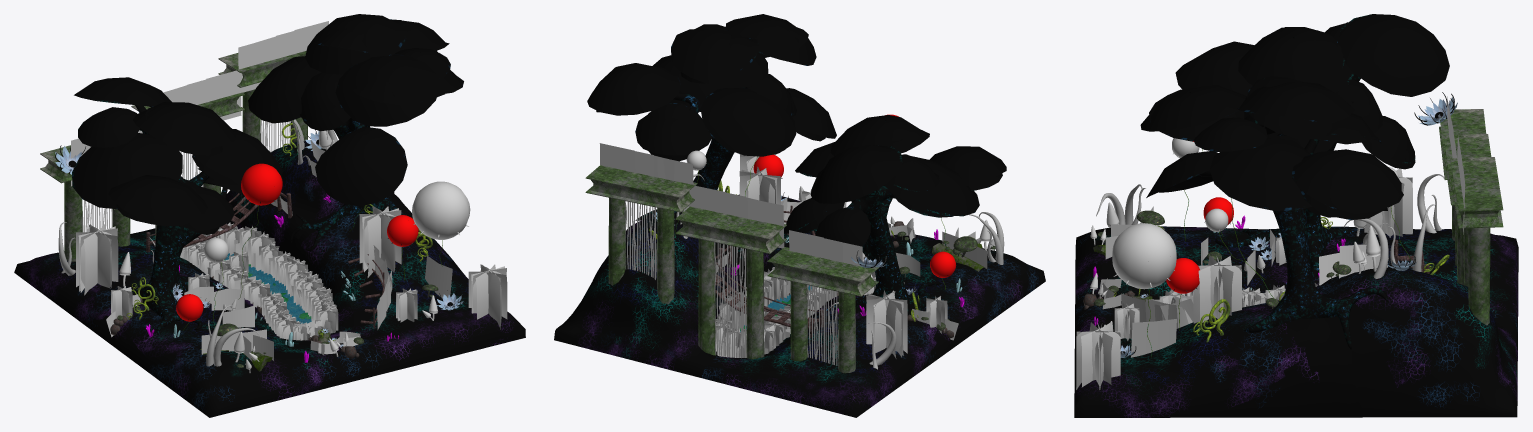
File: Scene Avatar 13_07.fbx
3 renders of one model, left to right at view 1: azimuth 30°, elevation 25°; view 2: azimuth 150°, elevation 25°; view 3: azimuth 270°, elevation 25°, orthographic. The views are drawn at different scales.
Parts seen in each view (by area): view 1: Right_tree, Tree_left, P4, P3, dark_green_grass, Bush_Water_Green, Bush_big, P2, Arches, P1, flower_sphere_white, flower_Sphere_red (+11 smaller); view 2: Right_tree, Arches, Tree_left, P1, P2, dark_green_grass, P3, Lianes, Bush_big, Bush_Water_Green, tentacle, Bridge_W (+4 smaller); view 3: Right_tree, P4, P1, Tree_left, Arches, Bush_big, P3, dark_green_grass, P2, flower_sphere_white, tentacle, orange_mushrooms (+6 smaller).
Part boxes in pixels (x1,y1,x2,y2): Right_tree: (248, 14, 463, 251); Tree_left: (72, 77, 283, 332); P4: (291, 193, 525, 379); P3: (115, 287, 361, 417); dark_green_grass: (71, 21, 452, 360); Bush_Water_Green: (182, 222, 338, 340); Bush_big: (76, 206, 507, 329); P2: (14, 228, 228, 347); Arches: (40, 51, 307, 261); P1: (225, 140, 343, 256); flower_sphere_white: (203, 181, 470, 262); flower_Sphere_red: (176, 163, 418, 321); Right_tree: (587, 14, 836, 271); Arches: (585, 165, 878, 373); Tree_left: (784, 115, 1006, 315); P1: (554, 213, 746, 377); P2: (701, 302, 953, 417); dark_green_grass: (599, 143, 987, 340); P3: (830, 234, 1045, 347); Lianes: (625, 201, 838, 365); Bush_big: (739, 154, 907, 358); Bush_Water_Green: (716, 252, 869, 357); tentacle: (683, 174, 1004, 369); Bridge_W: (715, 245, 823, 337); Right_tree: (1140, 76, 1403, 349); P4: (1074, 300, 1363, 417); P1: (1316, 267, 1517, 417); Tree_left: (1175, 14, 1449, 287); Arches: (1439, 109, 1503, 325); Bush_big: (1076, 168, 1412, 389); P3: (1075, 226, 1287, 325); dark_green_grass: (1100, 96, 1465, 357); P2: (1313, 226, 1518, 333); flower_sphere_white: (1112, 138, 1398, 289); tentacle: (1096, 174, 1445, 278); orange_mushrooms: (1090, 202, 1380, 331).
Bounding box in the file's own units: 19.57 × 13.57 × 17.71.
